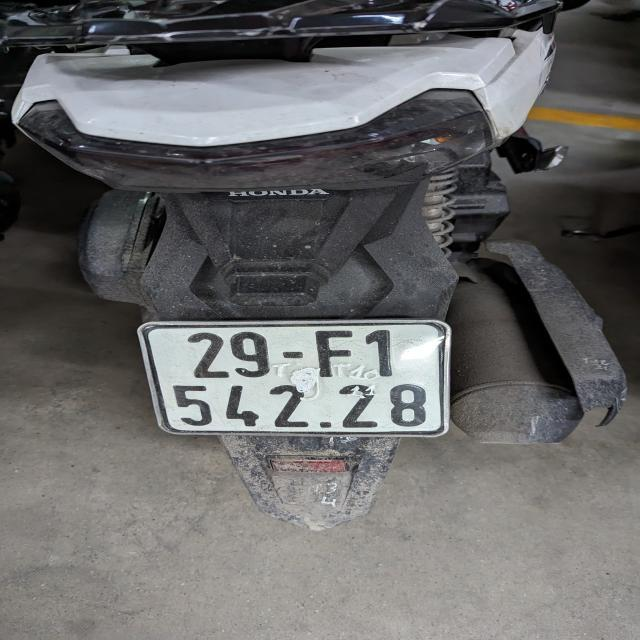license: (136, 317, 452, 438)
